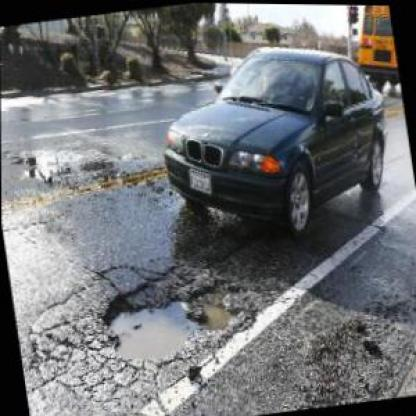pothole: (98, 265, 251, 366)
